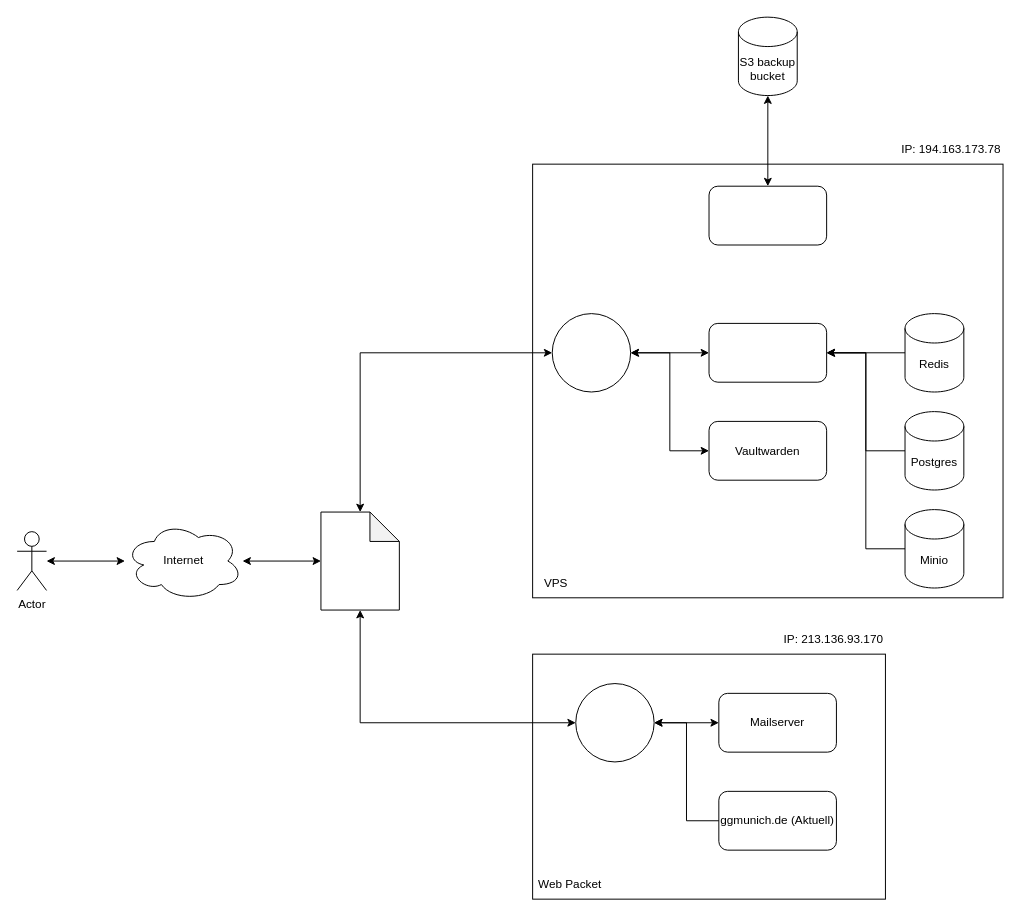
Some shapes in this 1020 by 916 pixel diagram are drawn without their labels. The box of each missing label's shape, as (x1, y1, x2, y2) in pixels:
Contabo DNS: (320, 511, 399, 610)
CPanel: (575, 683, 654, 762)
Nginx: (551, 313, 631, 392)
Outline: (708, 322, 827, 382)
Restic Connects to all docker volumes: (708, 185, 827, 245)
